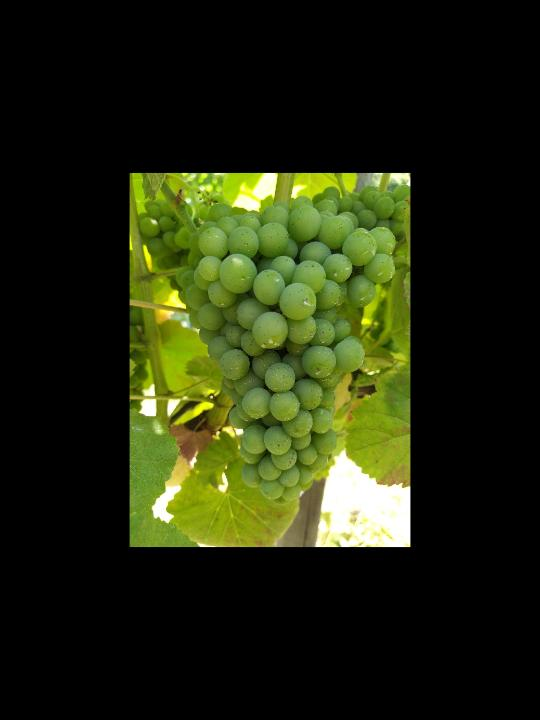grape: (181, 197, 395, 503)
